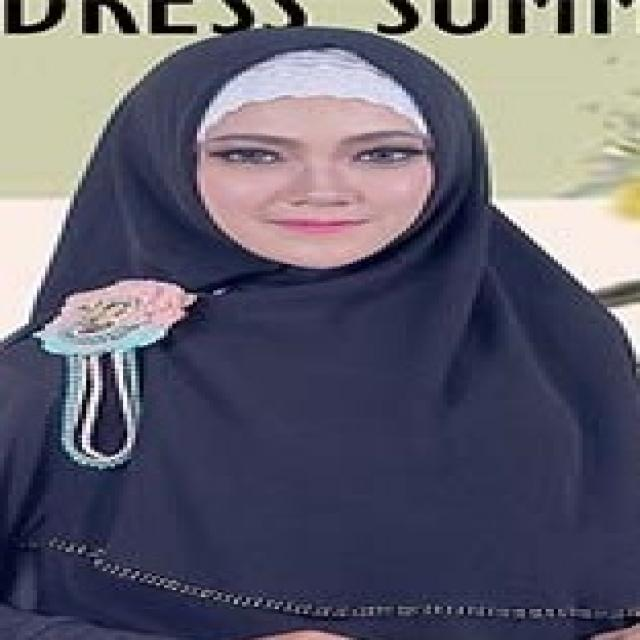head: (134, 31, 495, 278)
